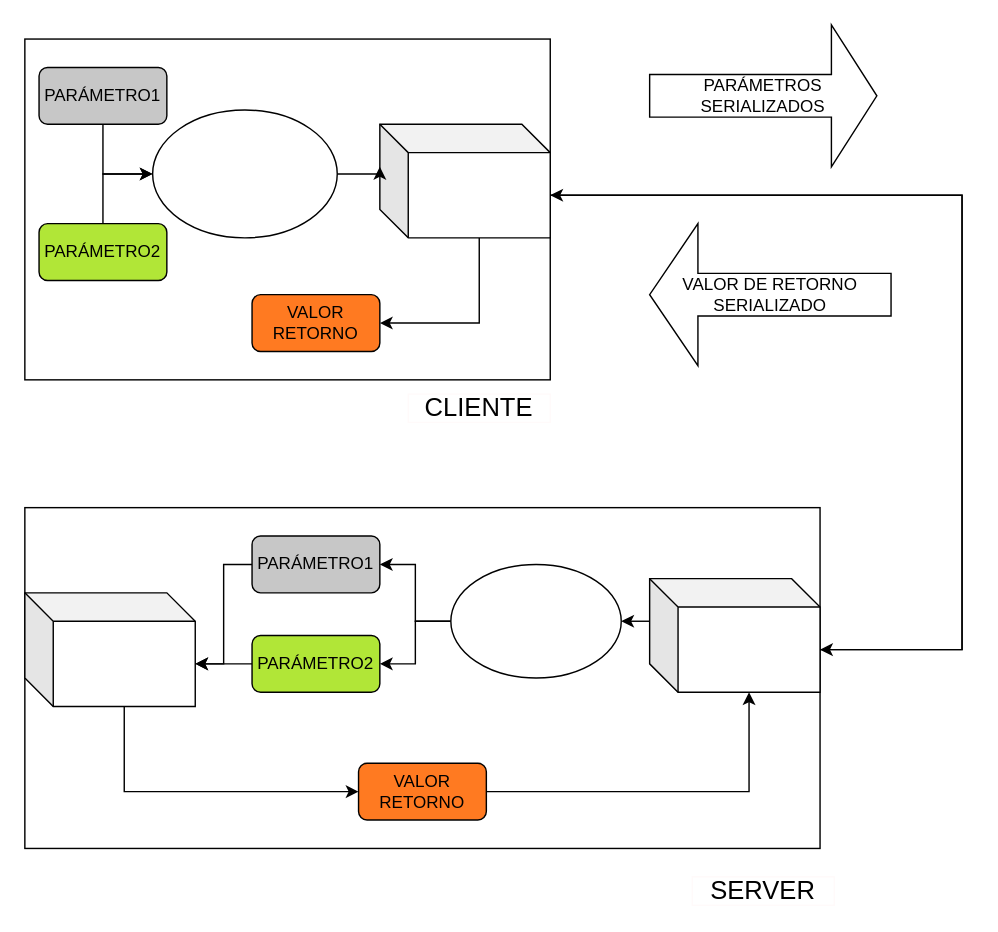
Some shapes in this 998 by 932 pixel diagram are drawn without their labels. The shapes that lost their labels are listed below. From the top down, each one's centre as x and y in pixels, then its label:
At pixel 244 173: "INVOCACIÓN DEL MÉTODO DEL CLIENTE AL SERVIDOR".
At pixel 464 180: "OBJETO STUB".
At pixel 535 620: "INVOCACIÓN DEL METODO EN EL SERVIDOR".
At pixel 734 634: "OBJETO ESKELETON".
At pixel 109 648: "SERVER OBJECT".
